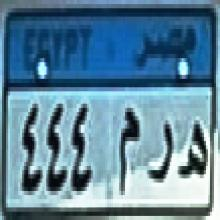4: (20, 96, 41, 197), (70, 101, 92, 195), (46, 99, 66, 195)
haa: (176, 115, 209, 192)
meem: (116, 101, 141, 197)
raa: (146, 114, 175, 189)
